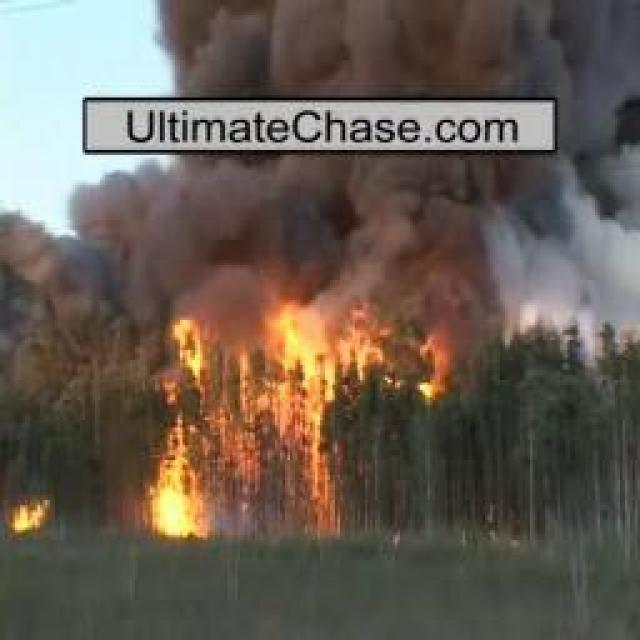Fire: (146, 294, 349, 545), (406, 306, 462, 409), (11, 499, 49, 541)
